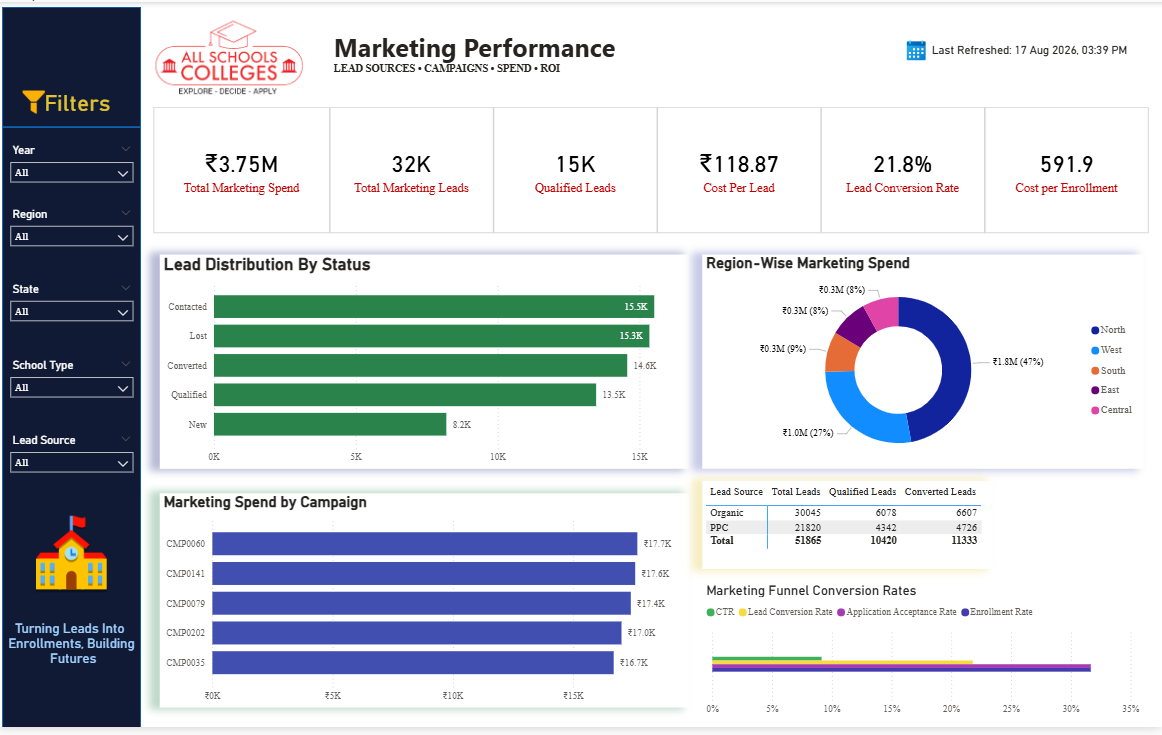

The page's visual inventory and layout, read from the dashboard file:
{"tool":"powerbi","page":{"name":"Marketing Performance","canvas":[1480,920],"ordinal":2},"visuals":[{"type":"shape","box":[7.7,6.8,176,928],"z":0},{"type":"card","fields":{"Values":["KPI_Measures.Total Marketing Spend"]},"box":[199.7,133.3,224,160],"z":1000},{"type":"card","fields":{"Values":["KPI_Measures.Total Marketing Leads"]},"box":[423.7,133.3,208,160],"z":2000},{"type":"card","fields":{"Values":["KPI_Measures.Qualified Leads"]},"box":[631.7,133.3,208,160],"z":3000},{"type":"card","fields":{"Values":["KPI_Measures.Cost Per Lead"]},"box":[839.7,133.3,208,160],"z":4000},{"type":"card","fields":{"Values":["KPI_Measures.Lead Conversion Rate"]},"box":[1047.7,133.3,208,160],"z":5000},{"type":"clusteredBarChart","title":"Lead Distribution By Status","fields":{"Y":["KPI_Measures.Total Leads M"],"Category":["fact_leads.status"]},"box":[208,320,672,272],"z":6000},{"type":"donutChart","title":"Region-Wise Marketing Spend","fields":{"Category":["dim_school.Region"],"Y":["KPI_Measures.Total PPC Spend"]},"box":[896,320,560,272],"z":7000},{"type":"clusteredBarChart","title":"Marketing Spend by Campaign","fields":{"Category":["fact_ppc.campaign_id"],"Y":["KPI_Measures.Total PPC Spend"]},"box":[208,624,672,272],"z":8000},{"type":"pivotTable","title":"Top 5 States by Enrollment","fields":{"Values":["KPI_Measures.Total Leads","KPI_Measures.Qualified Leads","KPI_Measures.Converted Leads"],"Rows":["fact_leads.Lead Source"]},"box":[896,608,368,112],"z":9000},{"type":"image","box":[23.7,110.8,48,32],"z":10000},{"type":"card","fields":{"Values":["KPI_Measures.filter"]},"box":[39.7,110.8,128,32],"z":11000},{"type":"shape","box":[7.7,142.8,176,32],"z":12000},{"type":"card","fields":{"Values":["KPI_Measures.Cost per Enrollment"]},"box":[1255.7,133.3,208,160],"z":13000},{"type":"slicer","fields":{"Values":["Dim_Date.Year"]},"box":[7.7,174.8,176,64],"z":14000},{"type":"slicer","fields":{"Values":["dim_school.region"]},"box":[7.7,254.8,176,64],"z":15000},{"type":"slicer","fields":{"Values":["dim_school.state"]},"box":[7.7,350.8,176,64],"z":16000},{"type":"slicer","fields":{"Values":["dim_school.school_type"]},"box":[7.7,446.8,176,64],"z":17000},{"type":"slicer","fields":{"Values":["fact_leads.lead_source"]},"box":[7.7,542.8,176,64],"z":18000},{"type":"image","box":[39.7,622.8,112,160],"z":19000},{"type":"image","box":[199.7,14.8,192,112],"z":20000},{"type":"textbox","box":[423.7,30.8,592,96],"z":21000},{"type":"card","fields":{"Values":["KPI_Measures.Last Refresh"]},"box":[1159.7,30.8,304,64],"z":22000},{"type":"image","box":[1143.7,46.8,48,32],"z":23000},{"type":"card","fields":{"Values":["KPI_Measures.Quote"]},"box":[7.7,766.8,176,96],"z":24000},{"type":"clusteredBarChart","title":"Marketing Funnel Conversion Rates","fields":{"Y":["KPI_Measures.CTR","KPI_Measures.Lead Conversion Rate","KPI_Measures.Application Acceptance Rate","KPI_Measures.Enrollment Rate"]},"box":[896,736,560,176],"z":25000}]}

Visuals, with their boxes on the page's 1480x920 design canvas (x1, y1, x2, y2). These are canvas units, not pixel positions in the 1162x735 screenshot, which may show the page scaled, cropped or inside an application window:
shape: <box>8,7,184,935</box>
card - KPI_Measures.Total Marketing Spend: <box>200,133,424,293</box>
card - KPI_Measures.Total Marketing Leads: <box>424,133,632,293</box>
card - KPI_Measures.Qualified Leads: <box>632,133,840,293</box>
card - KPI_Measures.Cost Per Lead: <box>840,133,1048,293</box>
card - KPI_Measures.Lead Conversion Rate: <box>1048,133,1256,293</box>
"Lead Distribution By Status" clusteredBarChart: <box>208,320,880,592</box>
"Region-Wise Marketing Spend" donutChart: <box>896,320,1456,592</box>
"Marketing Spend by Campaign" clusteredBarChart: <box>208,624,880,896</box>
"Top 5 States by Enrollment" pivotTable: <box>896,608,1264,720</box>
image: <box>24,111,72,143</box>
card - KPI_Measures.filter: <box>40,111,168,143</box>
shape: <box>8,143,184,175</box>
card - KPI_Measures.Cost per Enrollment: <box>1256,133,1464,293</box>
slicer - Dim_Date.Year: <box>8,175,184,239</box>
slicer - dim_school.region: <box>8,255,184,319</box>
slicer - dim_school.state: <box>8,351,184,415</box>
slicer - dim_school.school_type: <box>8,447,184,511</box>
slicer - fact_leads.lead_source: <box>8,543,184,607</box>
image: <box>40,623,152,783</box>
image: <box>200,15,392,127</box>
textbox: <box>424,31,1016,127</box>
card - KPI_Measures.Last Refresh: <box>1160,31,1464,95</box>
image: <box>1144,47,1192,79</box>
card - KPI_Measures.Quote: <box>8,767,184,863</box>
"Marketing Funnel Conversion Rates" clusteredBarChart: <box>896,736,1456,912</box>
